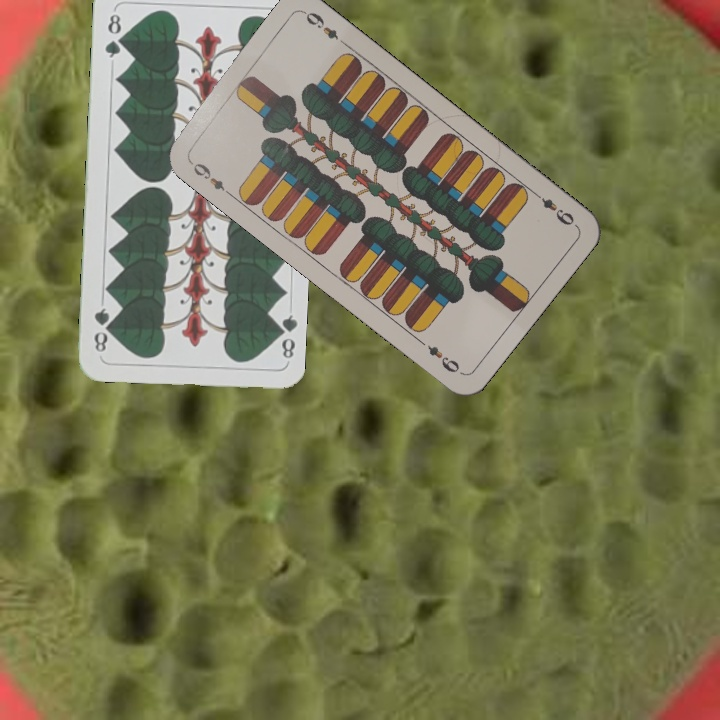E9: (185, 156, 234, 198), (529, 187, 577, 228)
G8: (271, 311, 299, 361), (100, 7, 125, 61)
